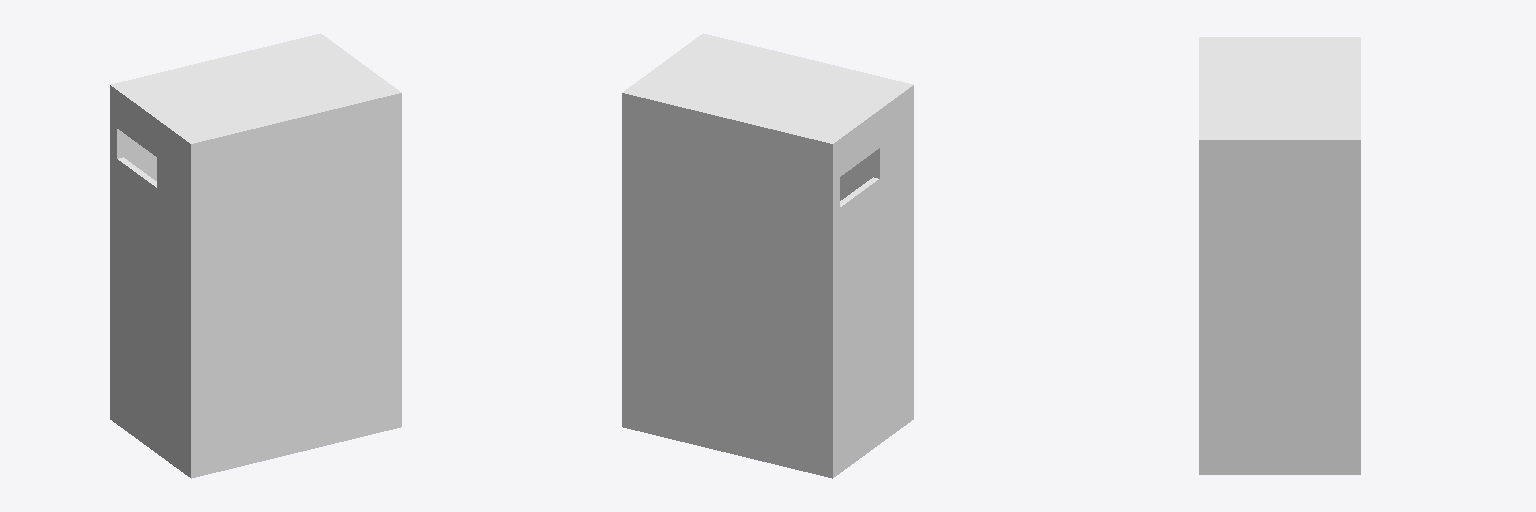
The model's file is Shop.obj.
3 renders of one model, left to right at view 1: azimuth 30°, elevation 25°; view 2: azimuth 150°, elevation 25°; view 3: azimuth 270°, elevation 25°, orthographic.
Parts seen in each view (by area): view 1: Floor_Generic_Floor___200__323099_, Basic_Wall_Generic___200mm__368621_, Basic_Wall_Generic___200mm__322698_, Floor_Generic_Floor___400mm__322617_; view 2: Floor_Generic_Floor___400mm__322617_, Basic_Wall_Generic___200mm__368621_, Basic_Wall_Generic___200mm__322698_, Floor_Generic_Floor___200__323099_; view 3: Basic_Wall_Generic___200mm__368647_, Basic_Wall_Generic___200mm__322698_, Floor_Generic_Floor___400mm__322617_, Floor_Generic_Floor___200__323099_.
Part boxes in pixels (bbox=[...]): Floor_Generic_Floor___200__323099_: bbox=[187, 90, 401, 478]; Basic_Wall_Generic___200mm__368621_: bbox=[117, 97, 186, 474]; Basic_Wall_Generic___200mm__322698_: bbox=[117, 39, 397, 147]; Floor_Generic_Floor___400mm__322617_: bbox=[110, 33, 327, 423]; Floor_Generic_Floor___400mm__322617_: bbox=[622, 87, 839, 478]; Basic_Wall_Generic___200mm__368621_: bbox=[840, 95, 909, 472]; Basic_Wall_Generic___200mm__322698_: bbox=[630, 36, 909, 144]; Floor_Generic_Floor___200__323099_: bbox=[700, 33, 913, 421]; Basic_Wall_Generic___200mm__368647_: bbox=[1206, 147, 1345, 474]; Basic_Wall_Generic___200mm__322698_: bbox=[1206, 37, 1345, 146]; Floor_Generic_Floor___400mm__322617_: bbox=[1346, 37, 1360, 474]; Floor_Generic_Floor___200__323099_: bbox=[1199, 37, 1205, 474].
Bounding box in the file's own units: 660 × 1000 × 440.